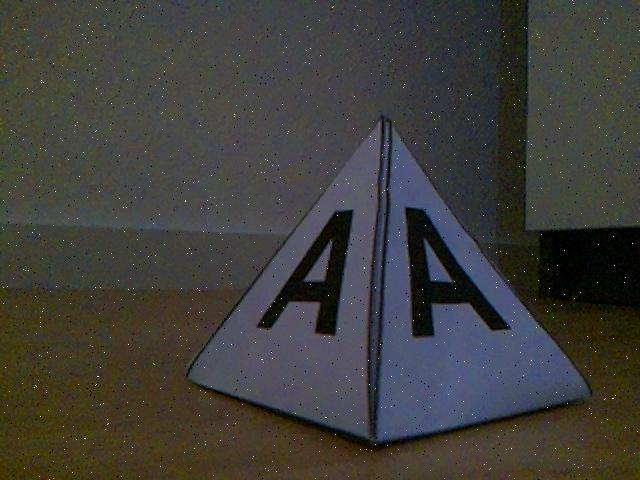A: (182, 114, 589, 446)
